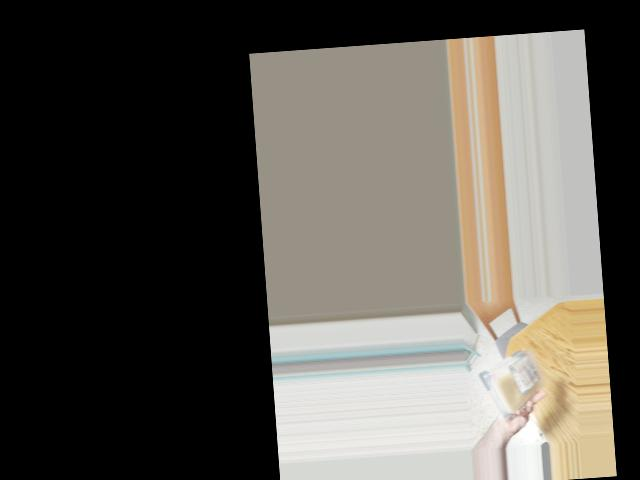cheese: (489, 351, 542, 414)
